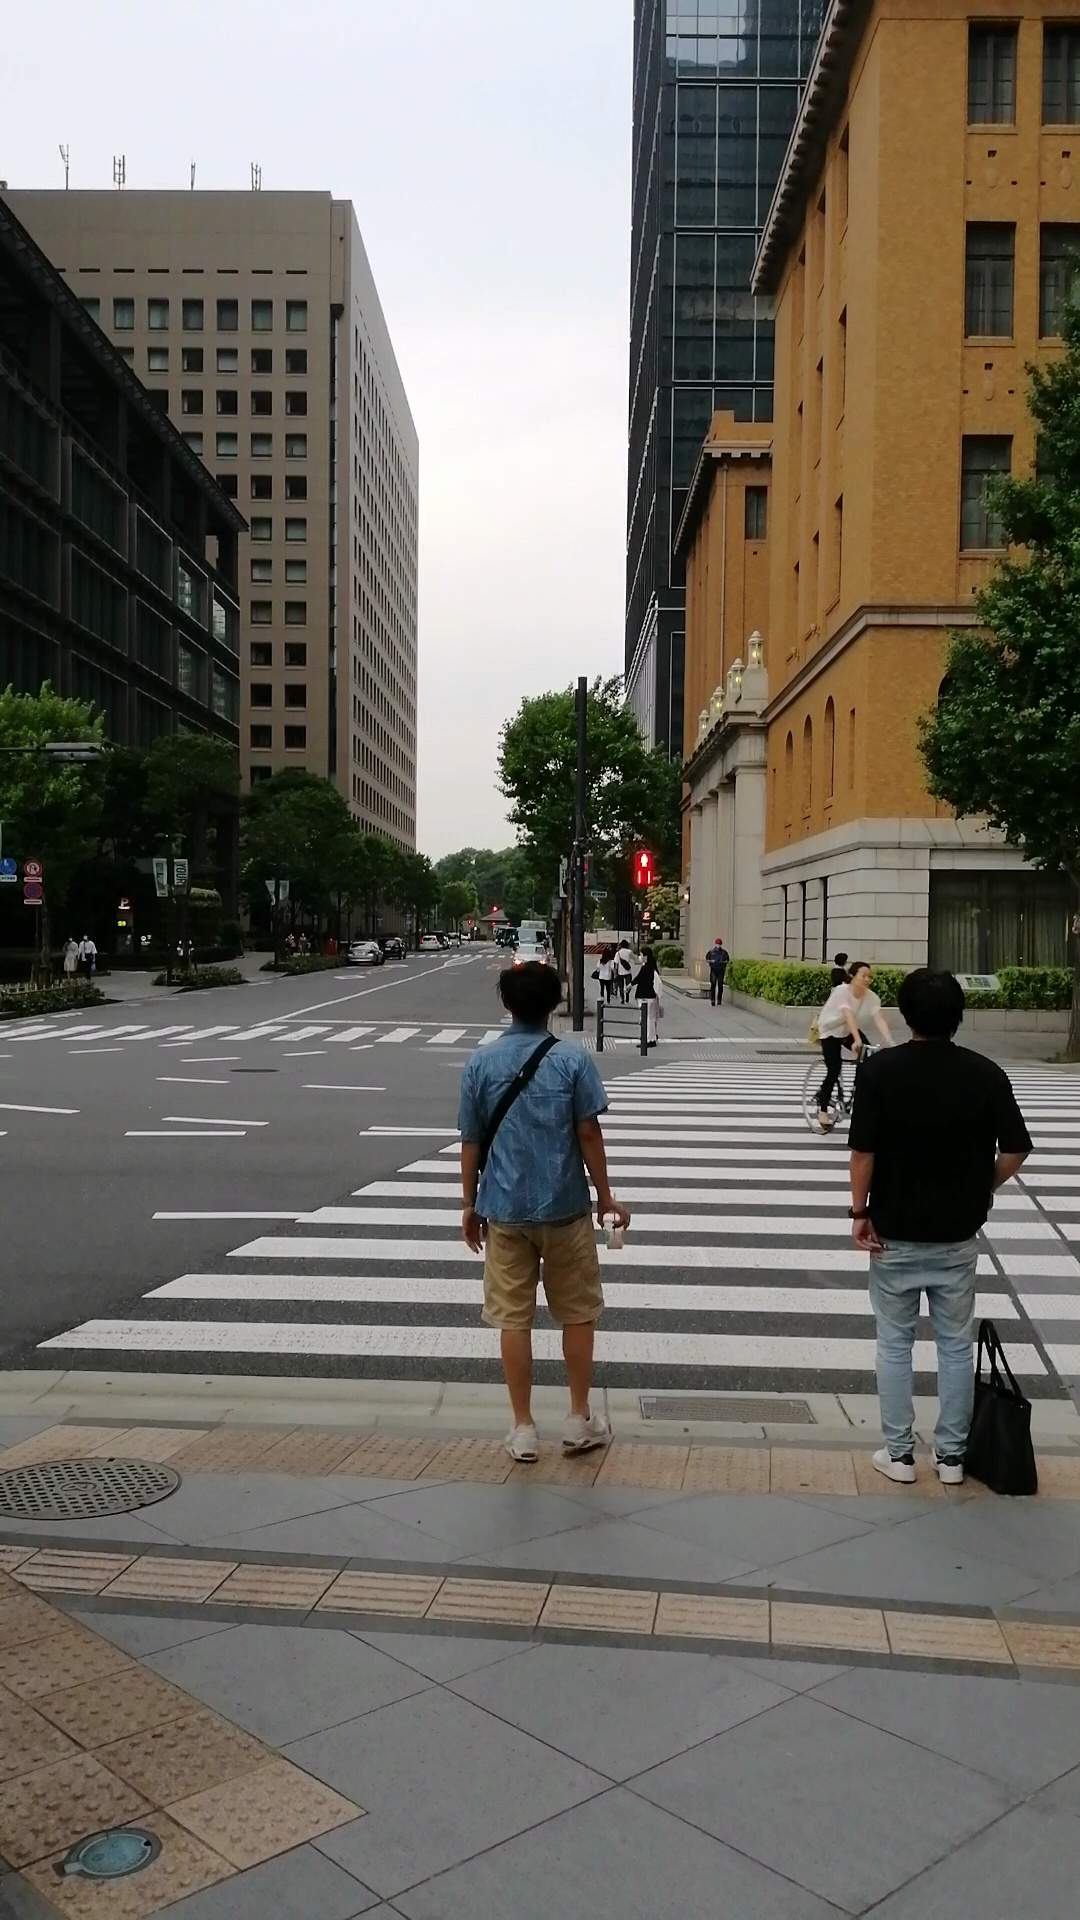red: (632, 849, 653, 887)
